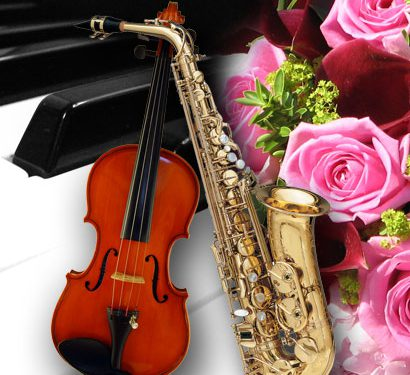Piano: (1, 12, 269, 375)
Saxophone: (88, 1, 350, 372)
Violin: (61, 46, 203, 375)
